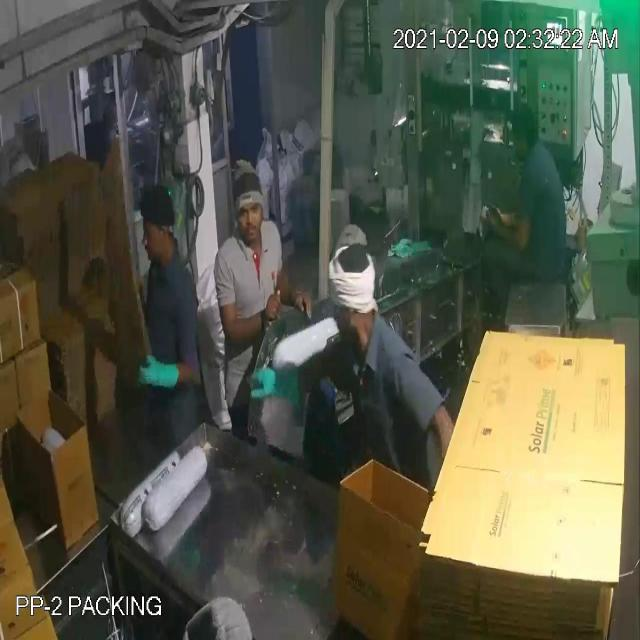gloves: (249, 354, 309, 418), (138, 337, 184, 403)
no-gloves: (483, 186, 541, 268), (211, 287, 283, 350), (277, 262, 315, 328)
